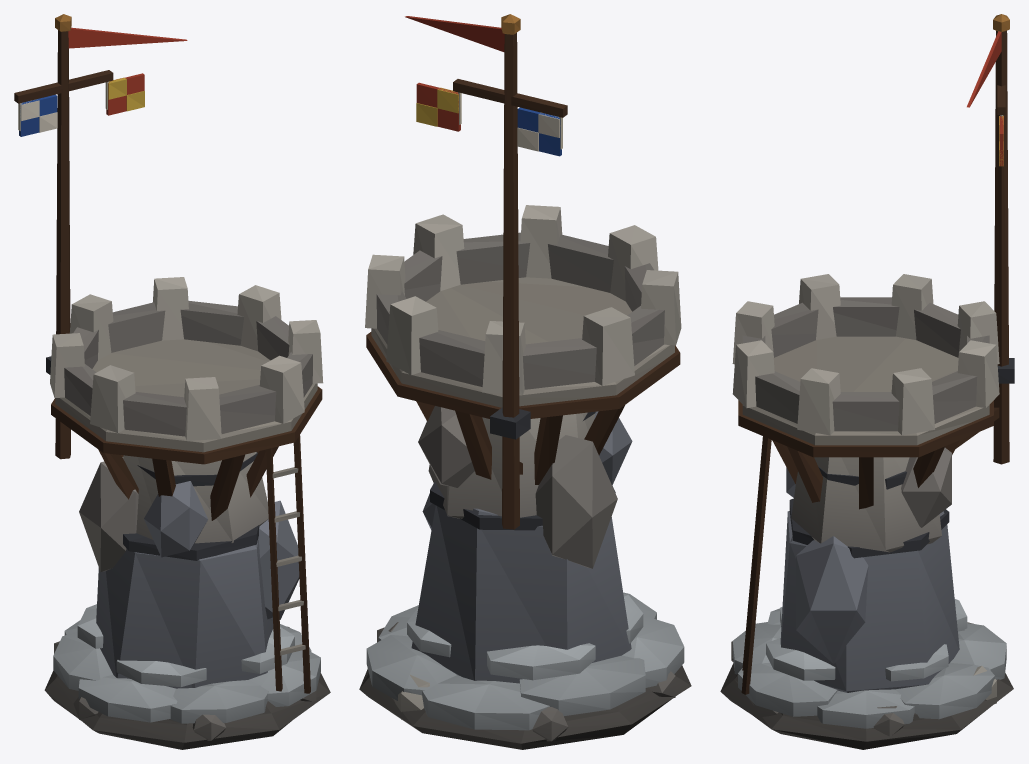
The model's file is siege_perch.glb.
3 views of the same model, side by side, from view 1: azimuth 30°, elevation 25°; view 2: azimuth 150°, elevation 25°; view 3: azimuth 270°, elevation 25° (orthographic). The views are drawn at different scales.
Visible parts, largest first — view 1: siege_perch; view 2: siege_perch; view 3: siege_perch.
Part boxes in pixels (x1,y1,x2,y2): siege_perch: (14,14,330,749); siege_perch: (359,14,691,749); siege_perch: (720,14,1014,749).
Bounding box in the file's own units: 0.8711 × 2.2 × 0.902.
